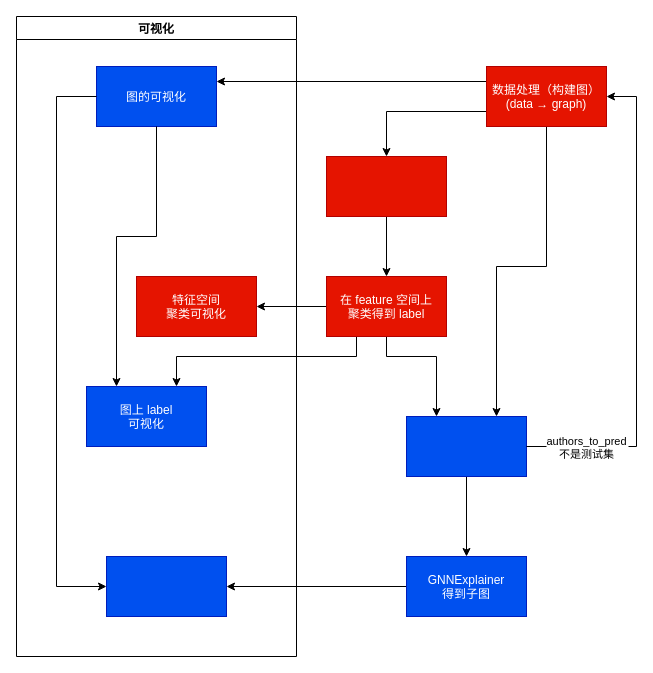
The diagram is 653 pixels wide and 673 high, and some of its shapes have lost their labels. The centre of each missing label's shape, as x and y in pixels:
"Explain 子图 可视化" belongs at point (166, 586).
"GNN 模型 + 训练 （两层GraphSage）" belongs at point (466, 446).
"图的结构 feature 构建 (DEG, BC)" belongs at point (386, 186).
